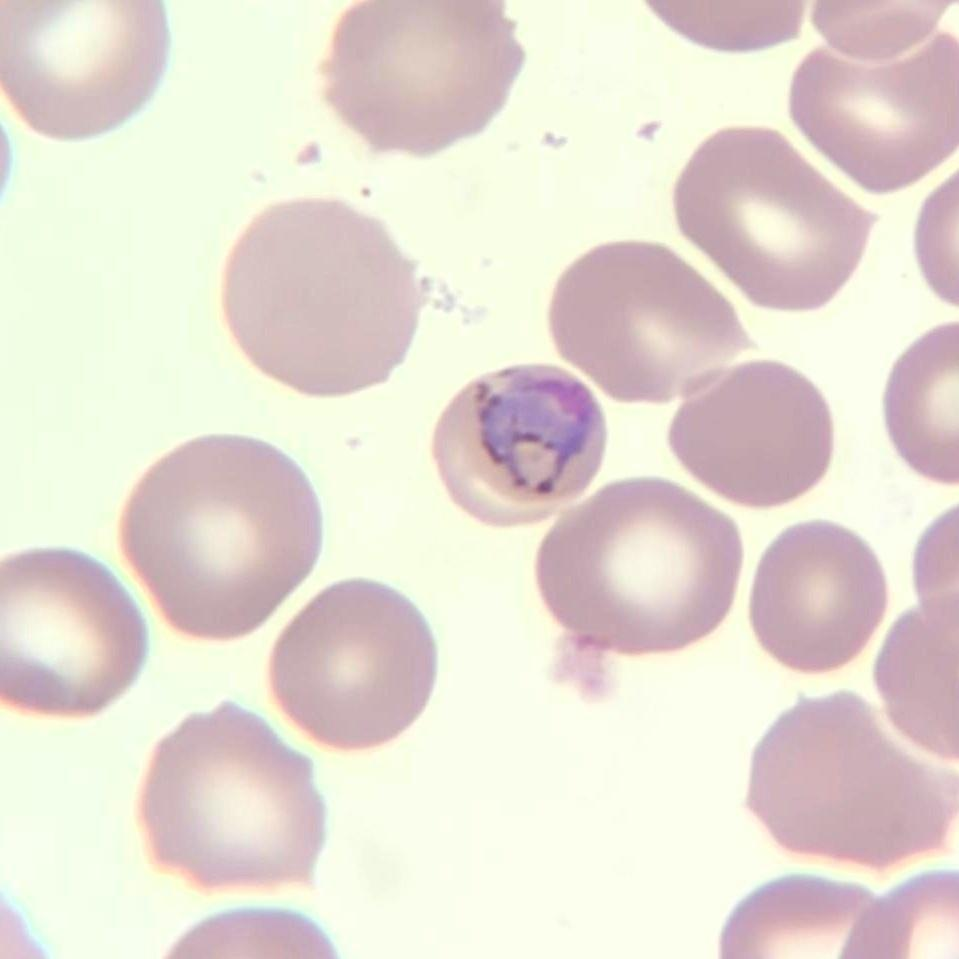Infected: (434, 364, 610, 523)
Uninfected: (122, 432, 321, 639), (742, 686, 953, 870), (224, 194, 417, 393), (672, 124, 871, 310), (138, 702, 327, 887), (536, 478, 738, 651), (546, 240, 753, 403), (322, 0, 524, 153), (786, 26, 959, 196), (266, 578, 436, 750), (0, 546, 149, 716), (670, 356, 835, 507), (0, 0, 169, 142), (746, 516, 889, 671)
